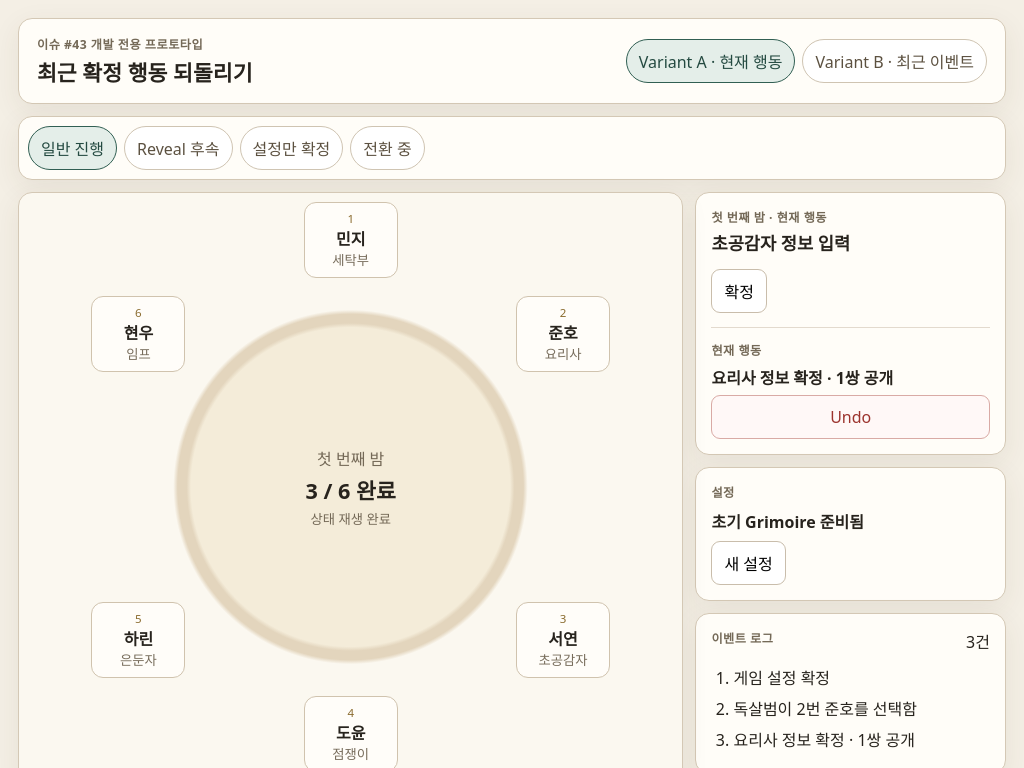
Scenario: hides generic Undo for setup-only and shows an eligible disabled action while busy
The width and height of the screenshot is (1024, 768).
Click the button "설정만 확정" at x=292, y=148, box [240, 126, 343, 170]
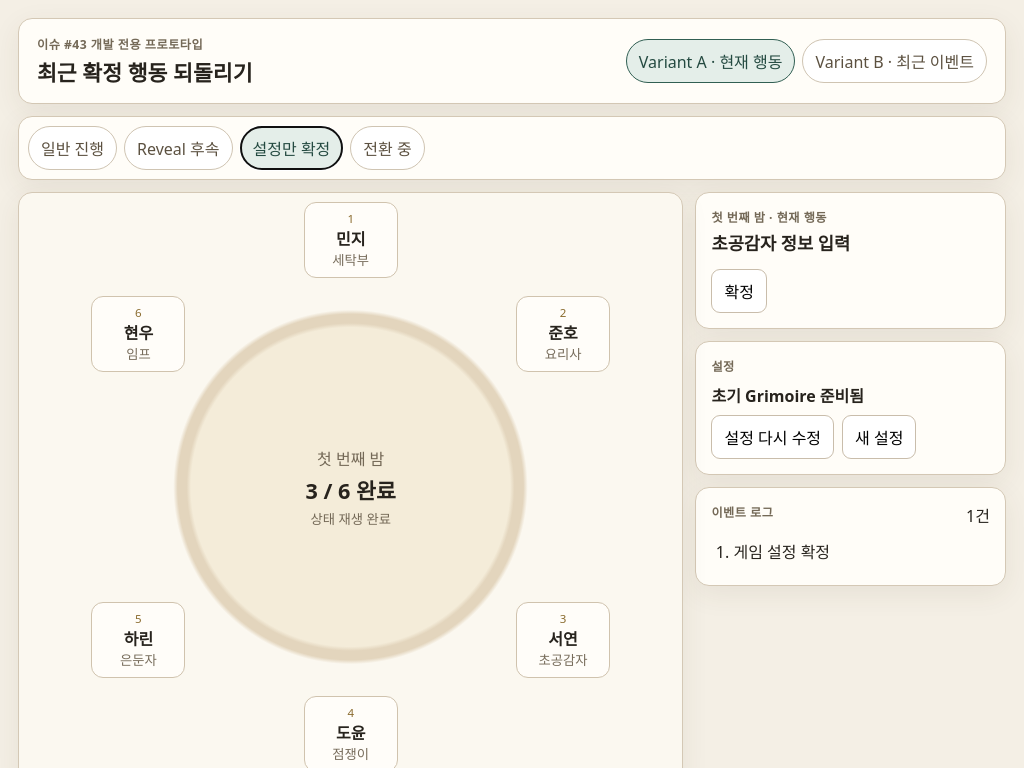
Now the button "Undo" is gone
Now the button "설정 다시 수정" is shown, box [712, 415, 834, 459]
Click the button "전환 중" at x=387, y=148, box [350, 126, 425, 170]
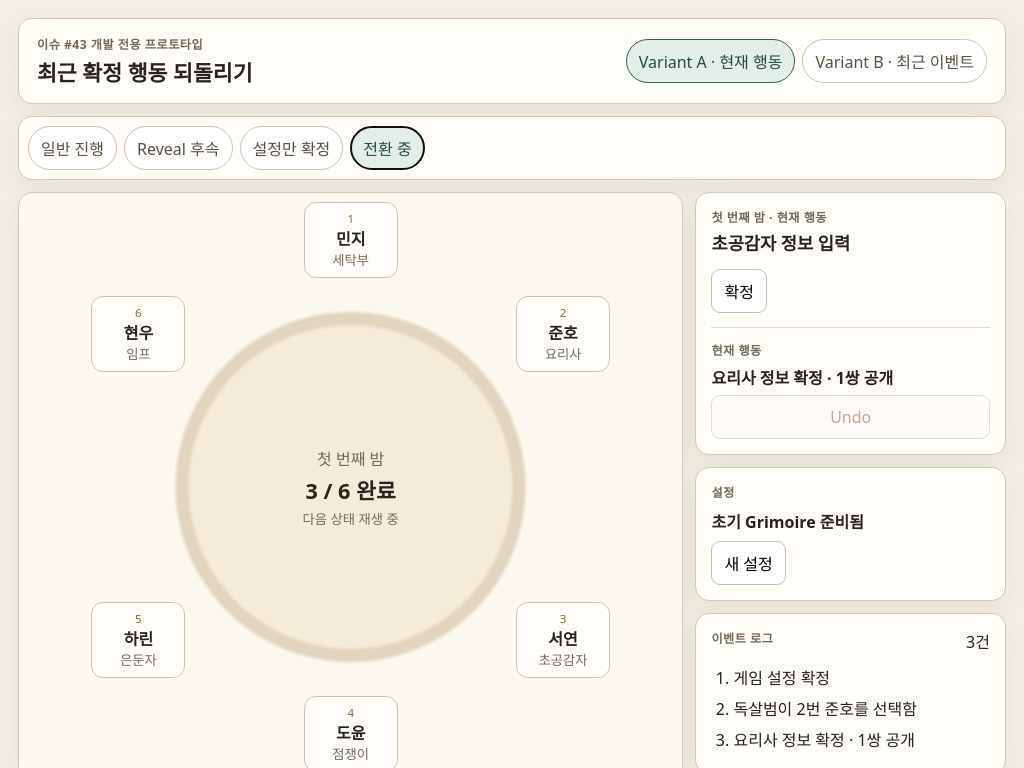
Now the button "Undo" is disabled, box [712, 395, 990, 439]
Now the text "다음 상태 재생 중" is shown, box [303, 510, 399, 528]
